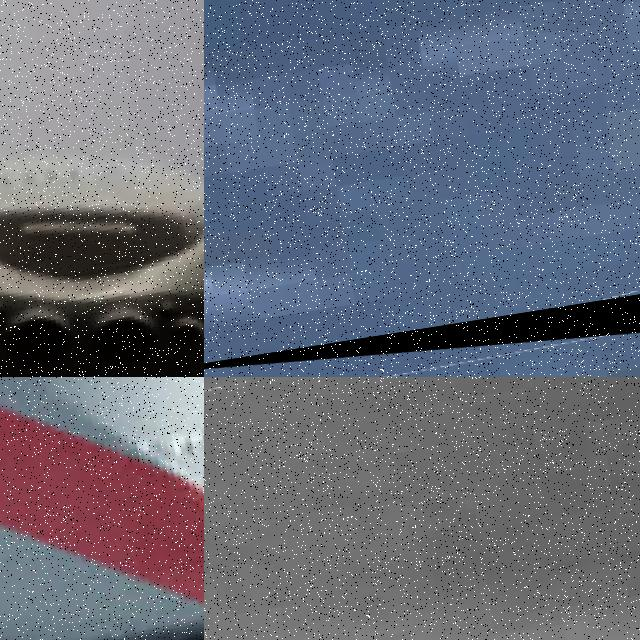drone: (0, 0, 204, 377), (0, 377, 204, 640), (204, 275, 640, 377)
